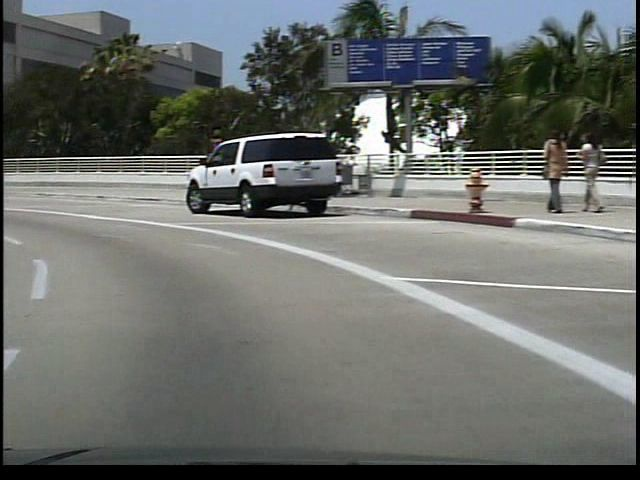person: (532, 125, 560, 218), (567, 128, 597, 214)
